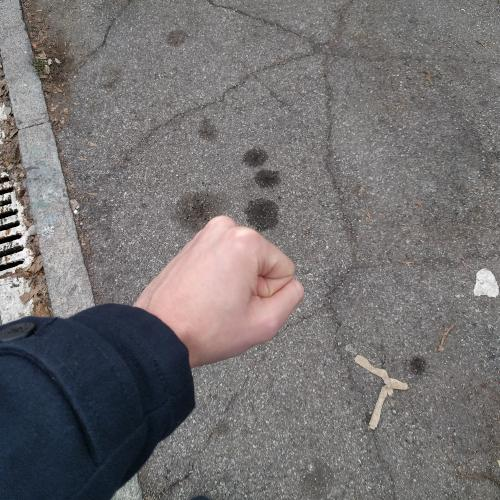rock: (130, 209, 306, 370)
